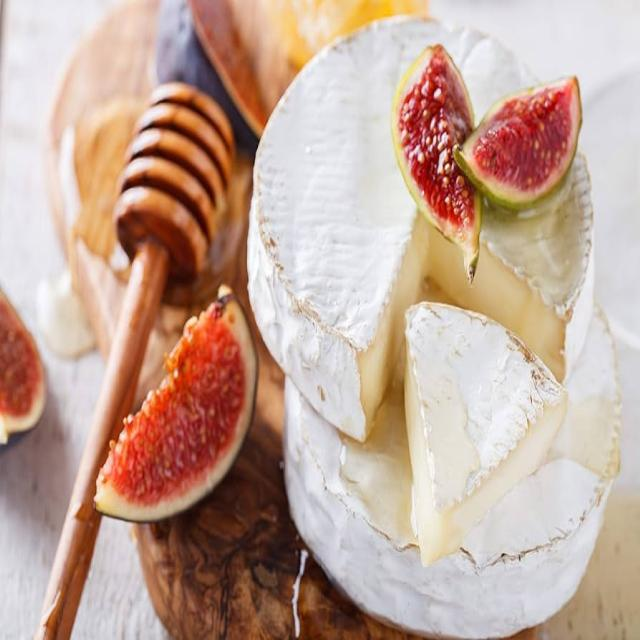Cheese: (241, 18, 599, 450), (283, 269, 635, 640), (399, 287, 575, 610)
